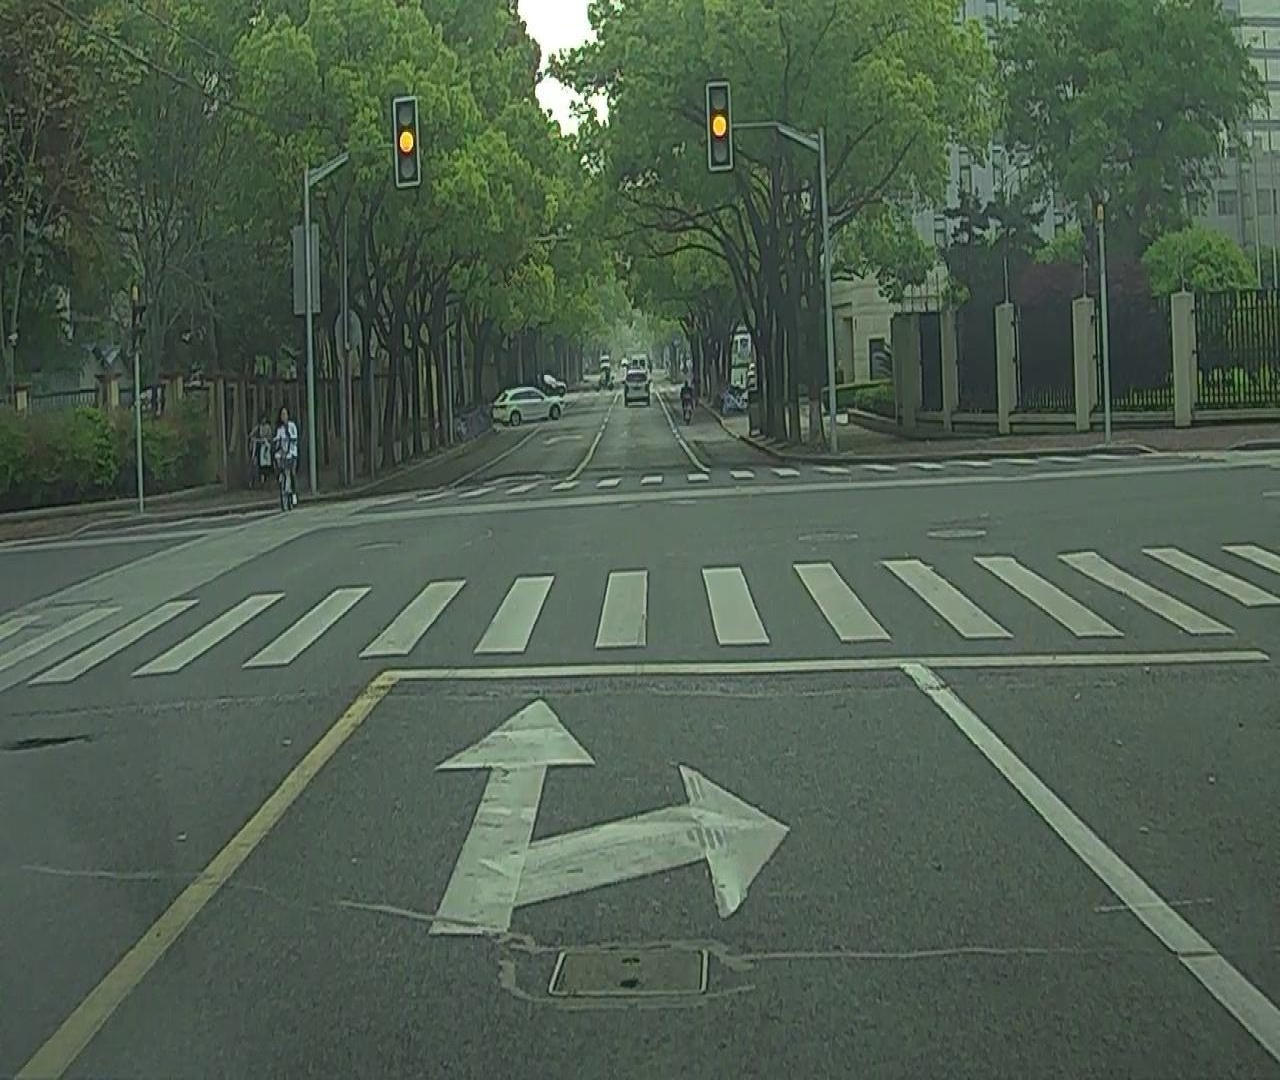yellow: (707, 82, 732, 168), (394, 99, 419, 183)
